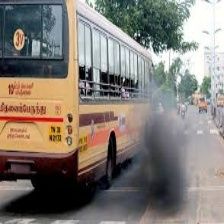smoke: (123, 133, 183, 205)
